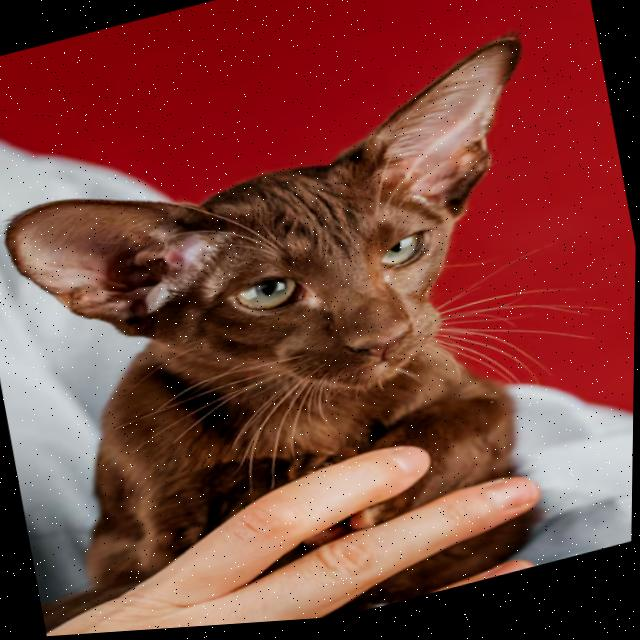Oriental: (0, 30, 625, 640)
